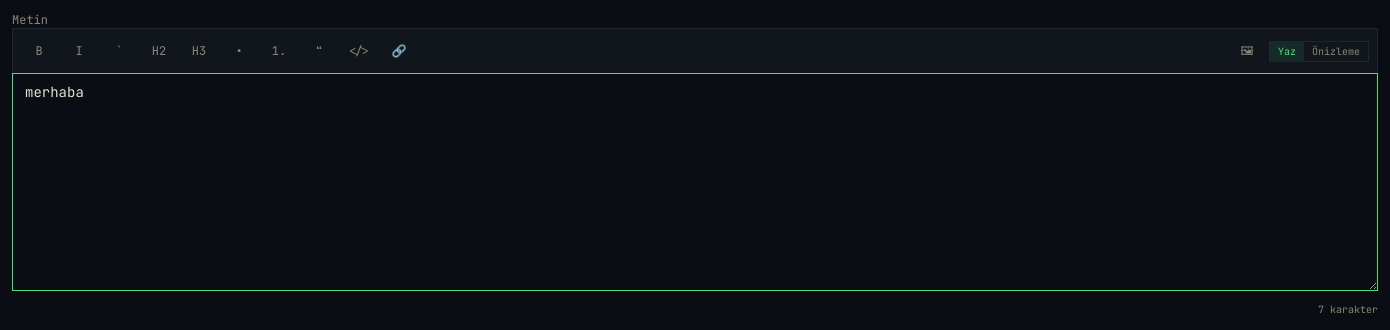
Test: heading prefix inserts at line start
Click the button named "Başlık 2".
click(159, 51)  # box 141,33 -> 177,69
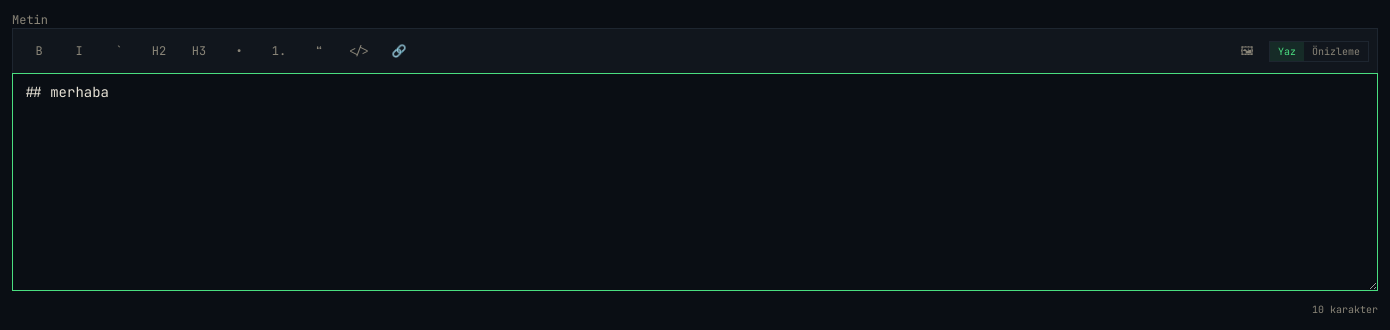
Result: the text box named "Metin" holds "## merhaba"
